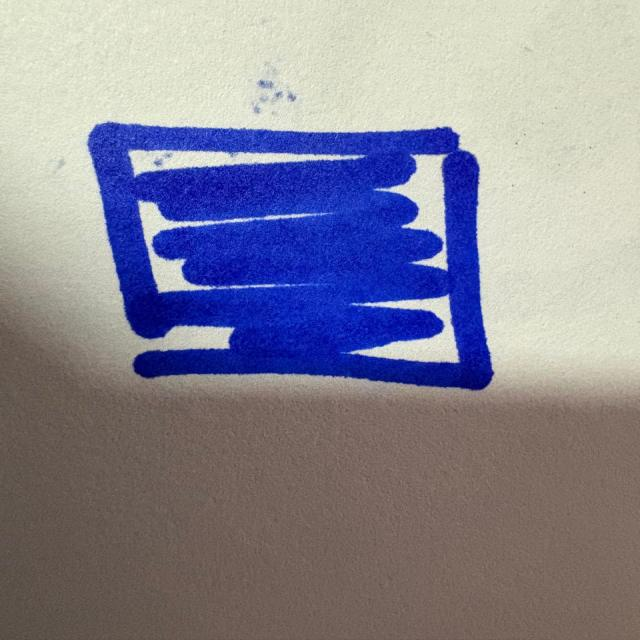Square: (78, 117, 508, 395)
